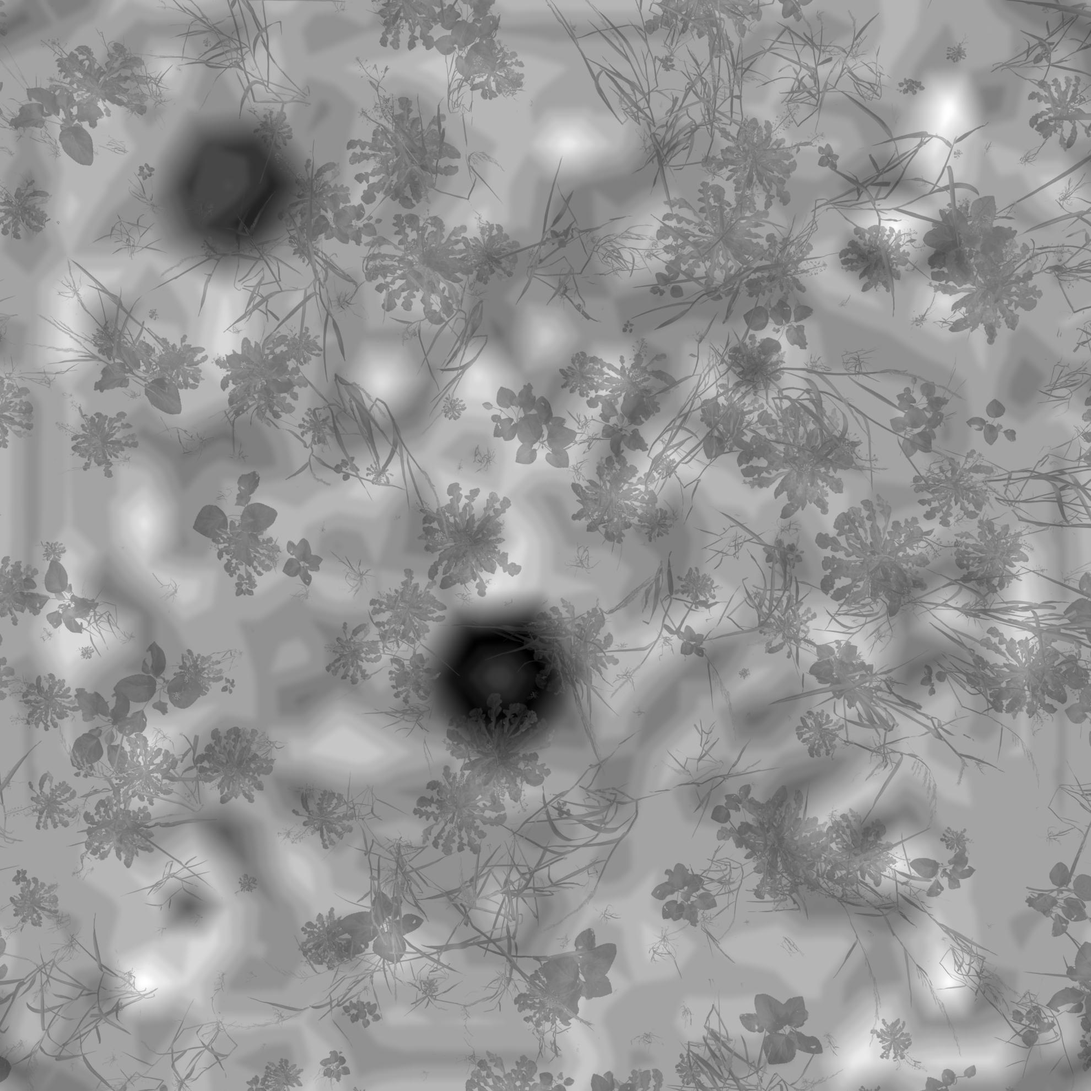landmine: (428, 600, 575, 758), (165, 120, 310, 256)
